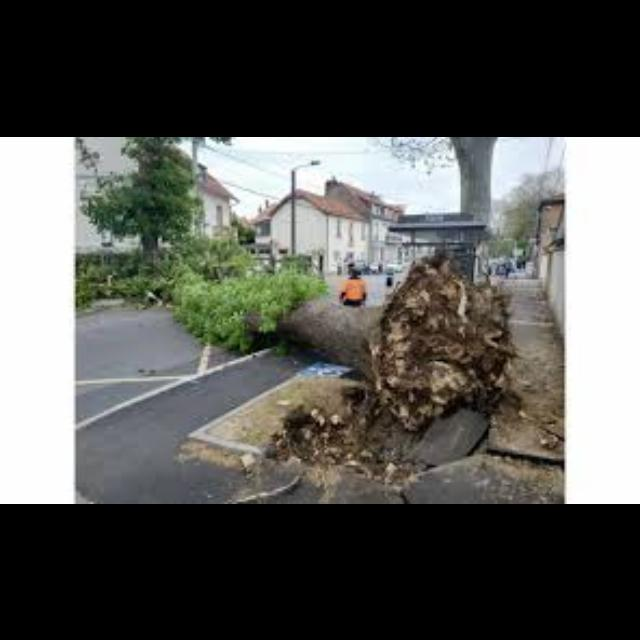Fallen Tree: (292, 249, 494, 433)
